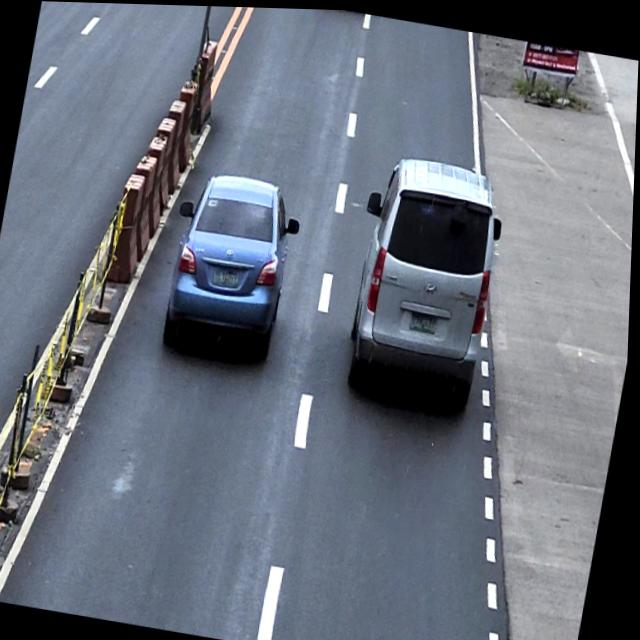Car: (336, 146, 514, 409), (158, 164, 309, 363)
License-Plate: (410, 308, 441, 333), (213, 266, 242, 289)
